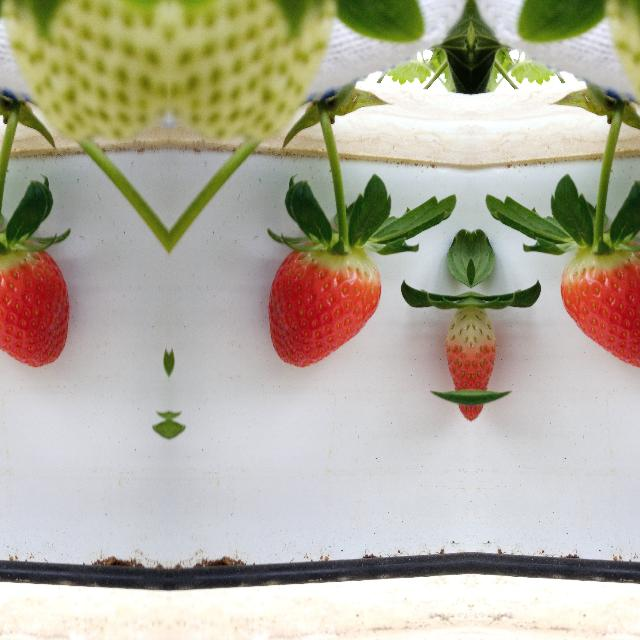Health_75: (266, 248, 382, 366), (559, 247, 640, 366), (0, 247, 70, 366)
